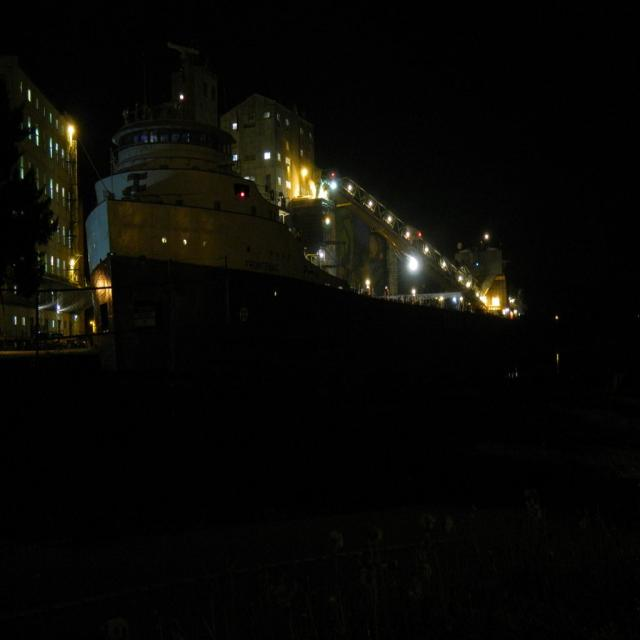Boat: (88, 59, 615, 418)
